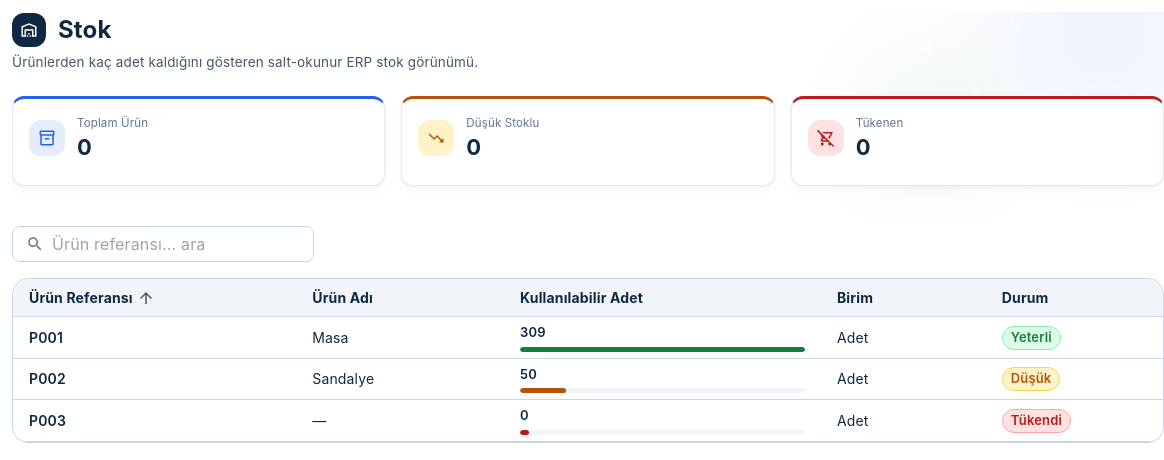
Scenario: Stock › filters rows by the search box
Check: the text "P001" is shown, box [13, 317, 296, 358]
Type "P002" into the field with placeholder "Ürün referansı... ara" at coordinates (183, 244), box [52, 224, 314, 264]
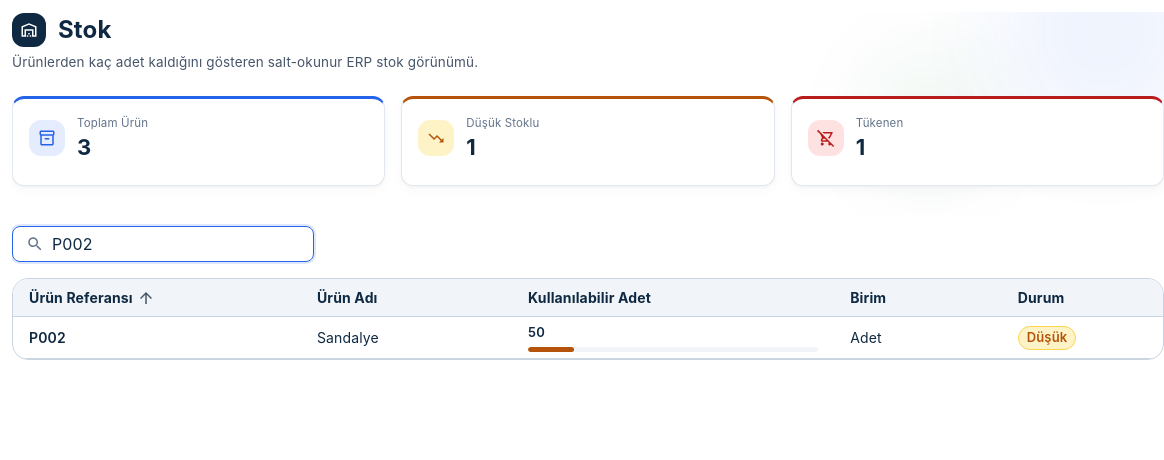
Check: the text "P002" is shown, box [13, 317, 301, 358]
Check: the text "P001" is gone
